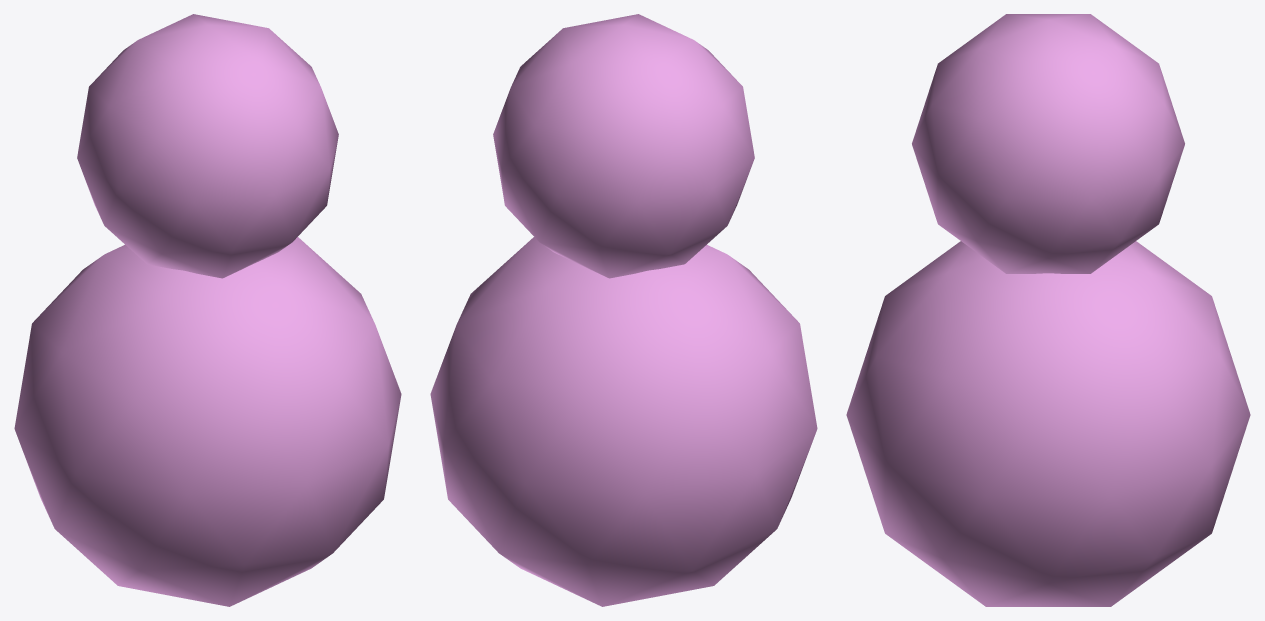
File: goodguy2.glb
3 renders of one model, left to right at view 1: azimuth 30°, elevation 25°; view 2: azimuth 150°, elevation 25°; view 3: azimuth 270°, elevation 25°, orthographic. The views are drawn at different scales.
Visible parts, largest first — view 1: Icosphere1, Icosphere1.001; view 2: Icosphere1, Icosphere1.001; view 3: Icosphere1, Icosphere1.001.
Boxes of the visible parts, x1=… form: Icosphere1: x1=14, y1=237, x2=401, y2=606; Icosphere1.001: x1=77, y1=14, x2=338, y2=278; Icosphere1: x1=430, y1=237, x2=817, y2=606; Icosphere1.001: x1=493, y1=14, x2=754, y2=278; Icosphere1: x1=846, y1=241, x2=1250, y2=606; Icosphere1.001: x1=912, y1=14, x2=1184, y2=273.
Size of the model in its own units: 1.9 by 3.16 by 2.
